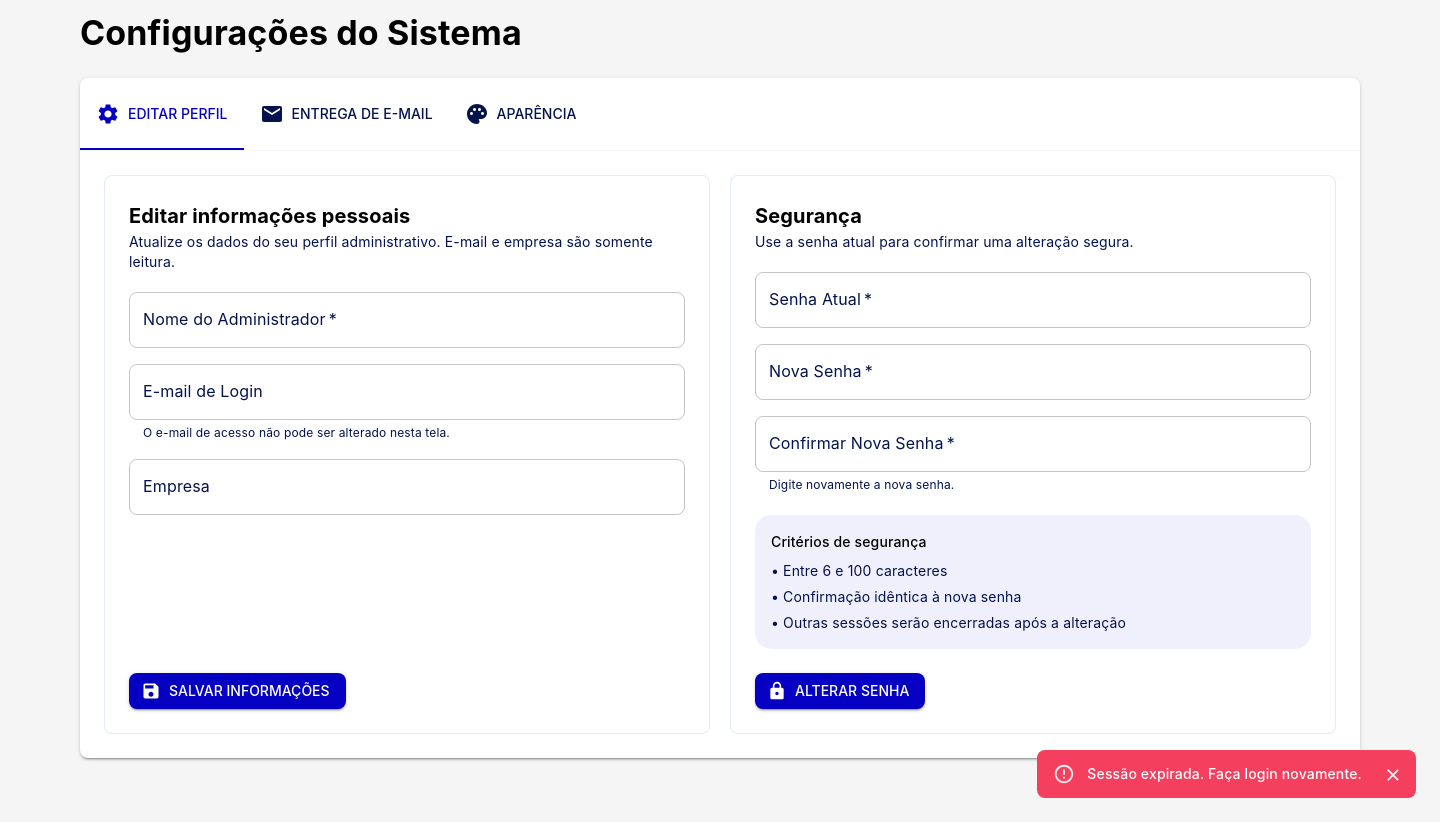
Scenario: Settings — entrega multi-provedor › mantém SMTP e permite alternar para API HTTPS com campos do AWS SES
Click the tab "Entrega de E-mail". click: (346, 114)
box: [244,78,449,150]
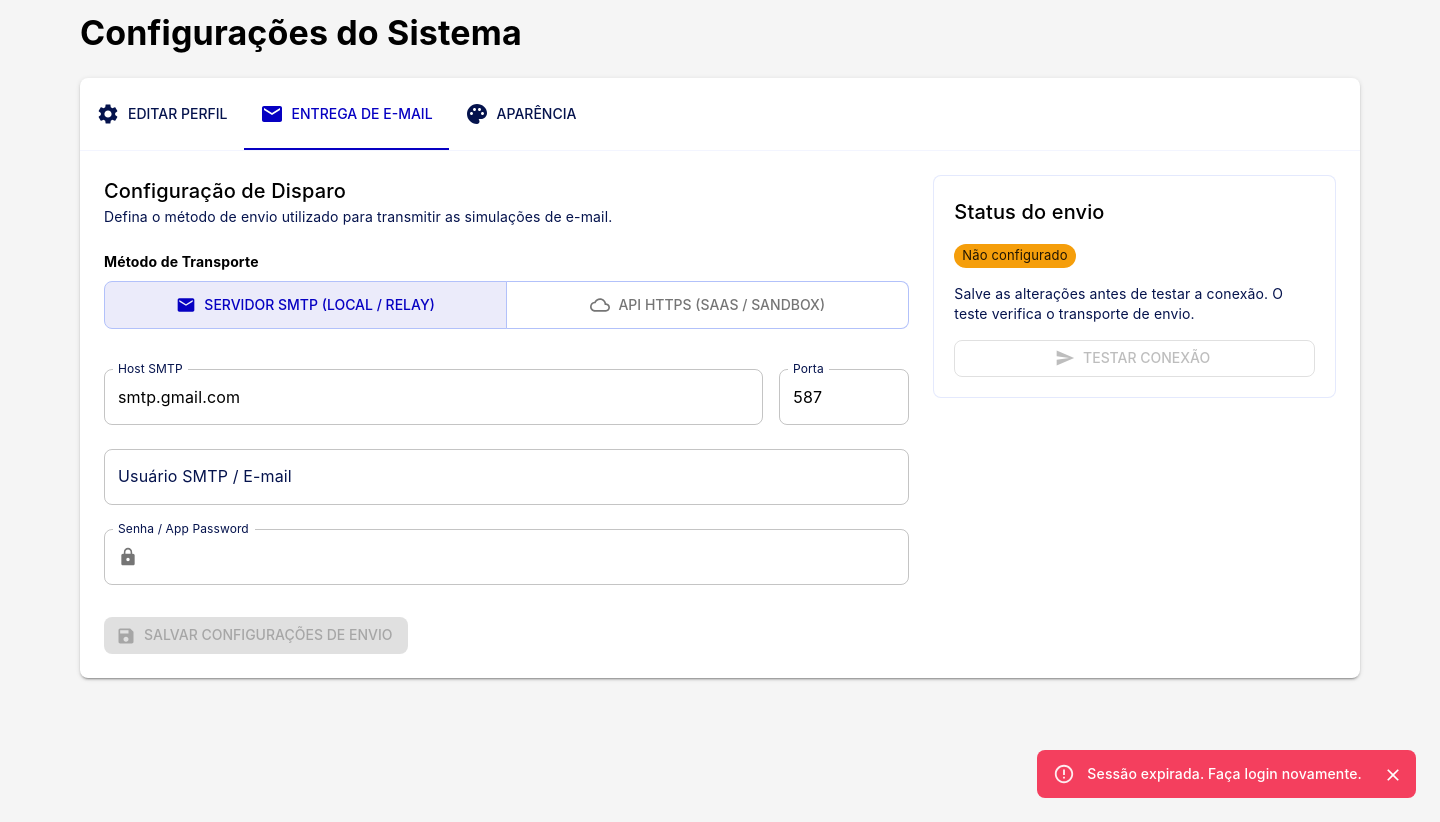
Result: the button "Servidor SMTP (Local / Relay)" is shown at [104,281,507,330]
Click the button "API HTTPS (SaaS / Sandbox)". click: (708, 305)
box: [506,281,909,330]
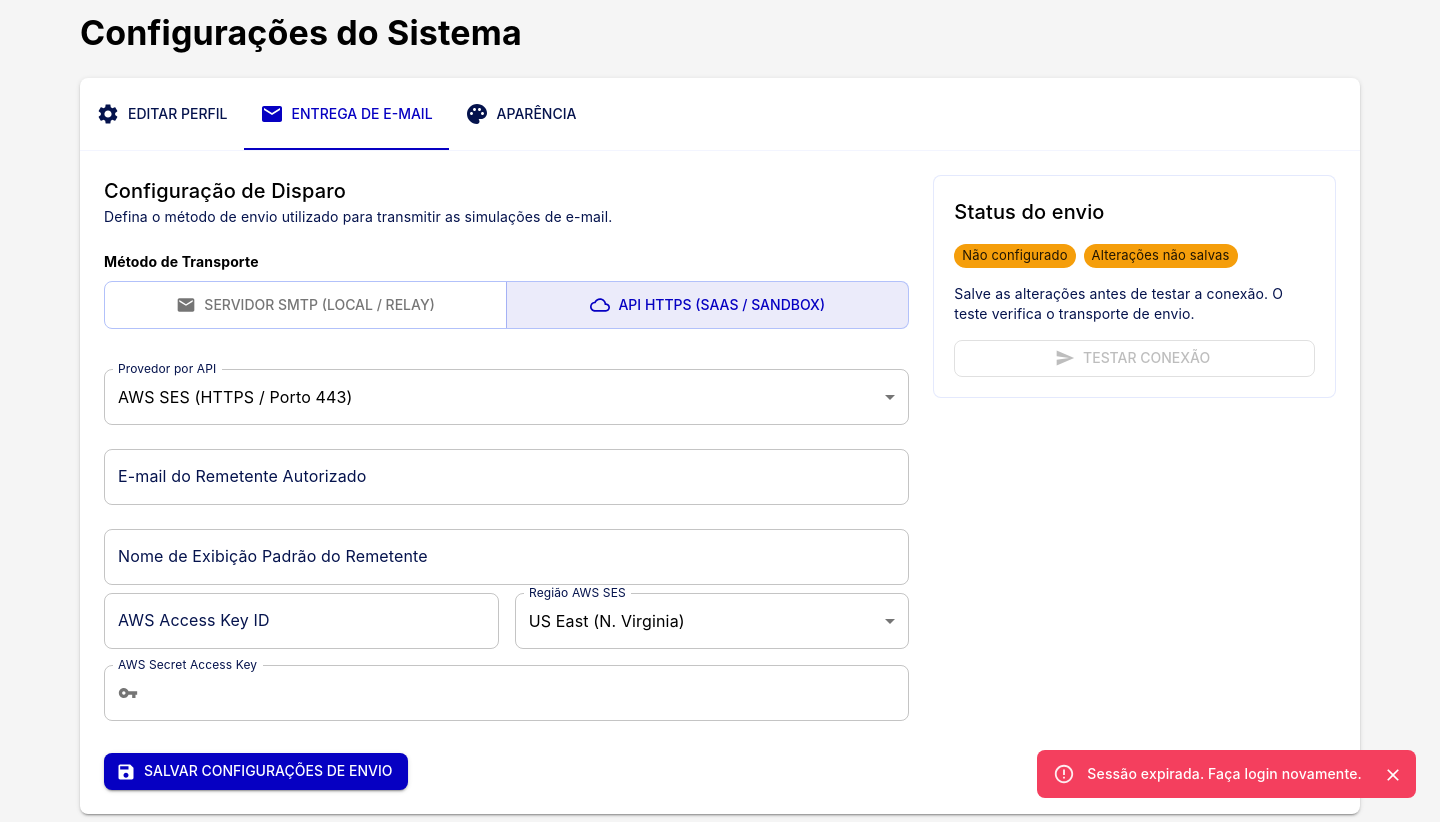
Result: the field labelled "AWS Access Key ID" is shown at [104,594,499,650]
Result: the password field labelled "AWS Secret Access Key" is shown at [146,666,909,722]
Result: the dropdown named "provedor por api" is shown at [118,387,353,407]
